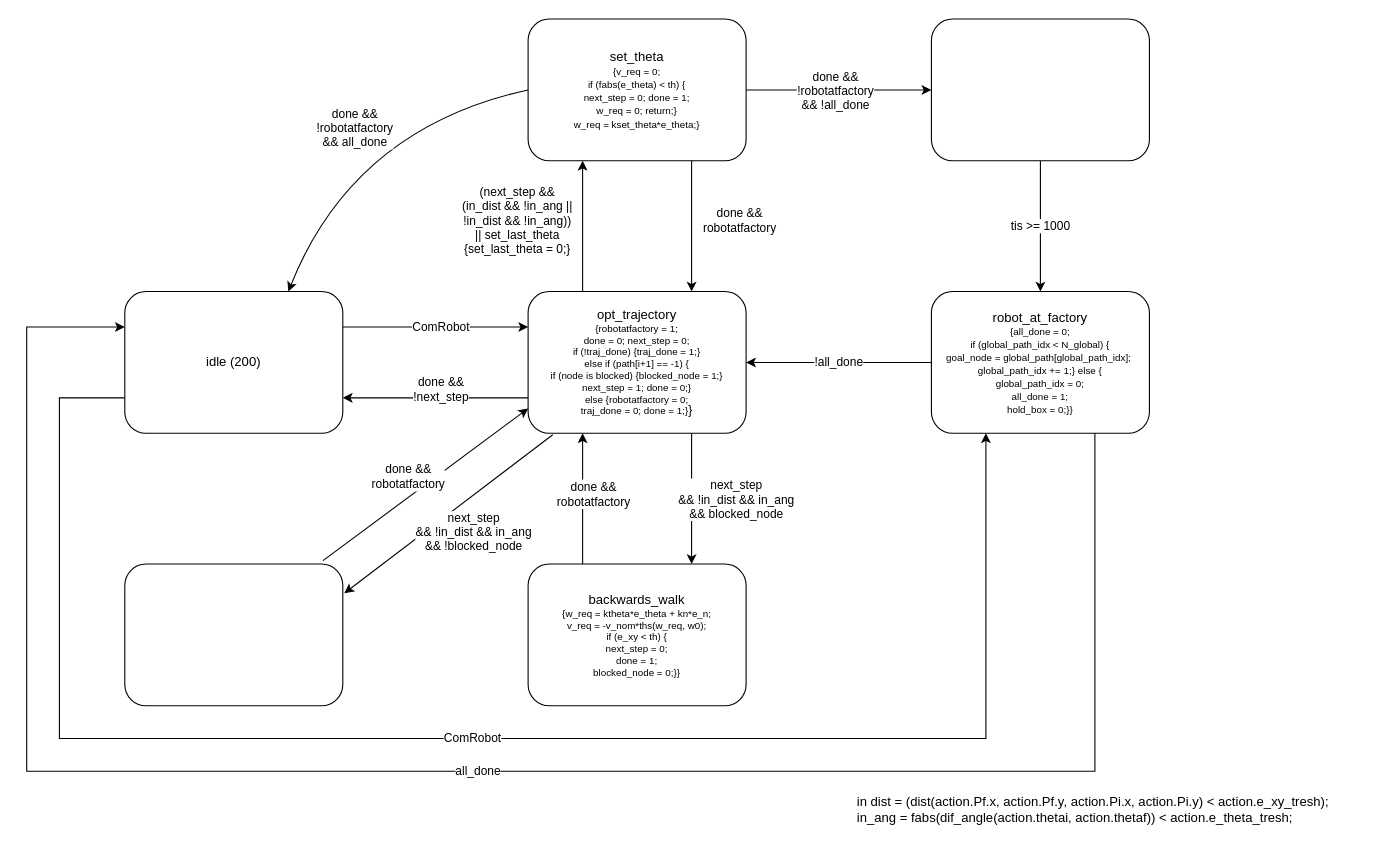
Some shapes in this 1386 by 856 pixel diagram are drawn without their labels. Here are the shapes that lost their labels. From the top down, the centre of each, then its label:
At (x=1039, y=89): "switch_solenoid {holdbox = !hold_box; solenoid = 5.0 * hold_box;}".
At (x=233, y=634): "follow_line {next_step = 0 done = 1}".
